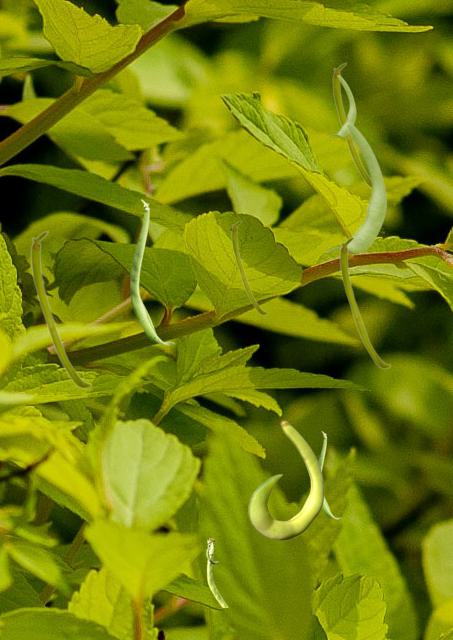french_bean: (30, 230, 91, 388), (248, 420, 323, 539), (324, 121, 386, 253), (339, 236, 390, 368), (130, 199, 174, 344), (332, 62, 370, 188), (231, 220, 267, 314), (318, 431, 341, 518), (327, 74, 355, 136), (206, 538, 227, 606)
